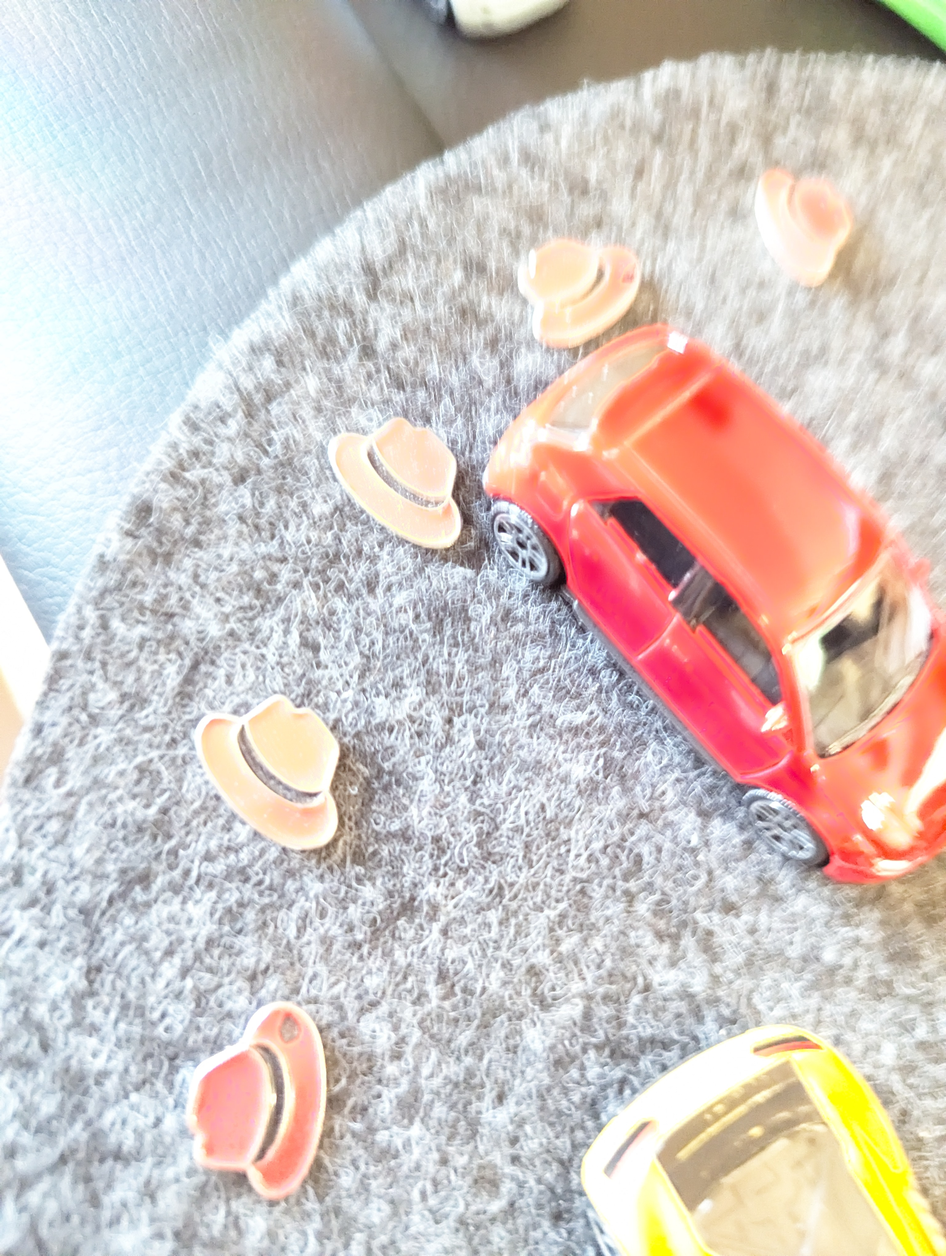Car: (421, 285, 946, 902)
Red-Hat: (156, 963, 389, 1218), (168, 669, 366, 867), (296, 381, 486, 573), (483, 218, 686, 355), (736, 138, 874, 318)
Scratch: (268, 1001, 324, 1053), (616, 258, 655, 295)
